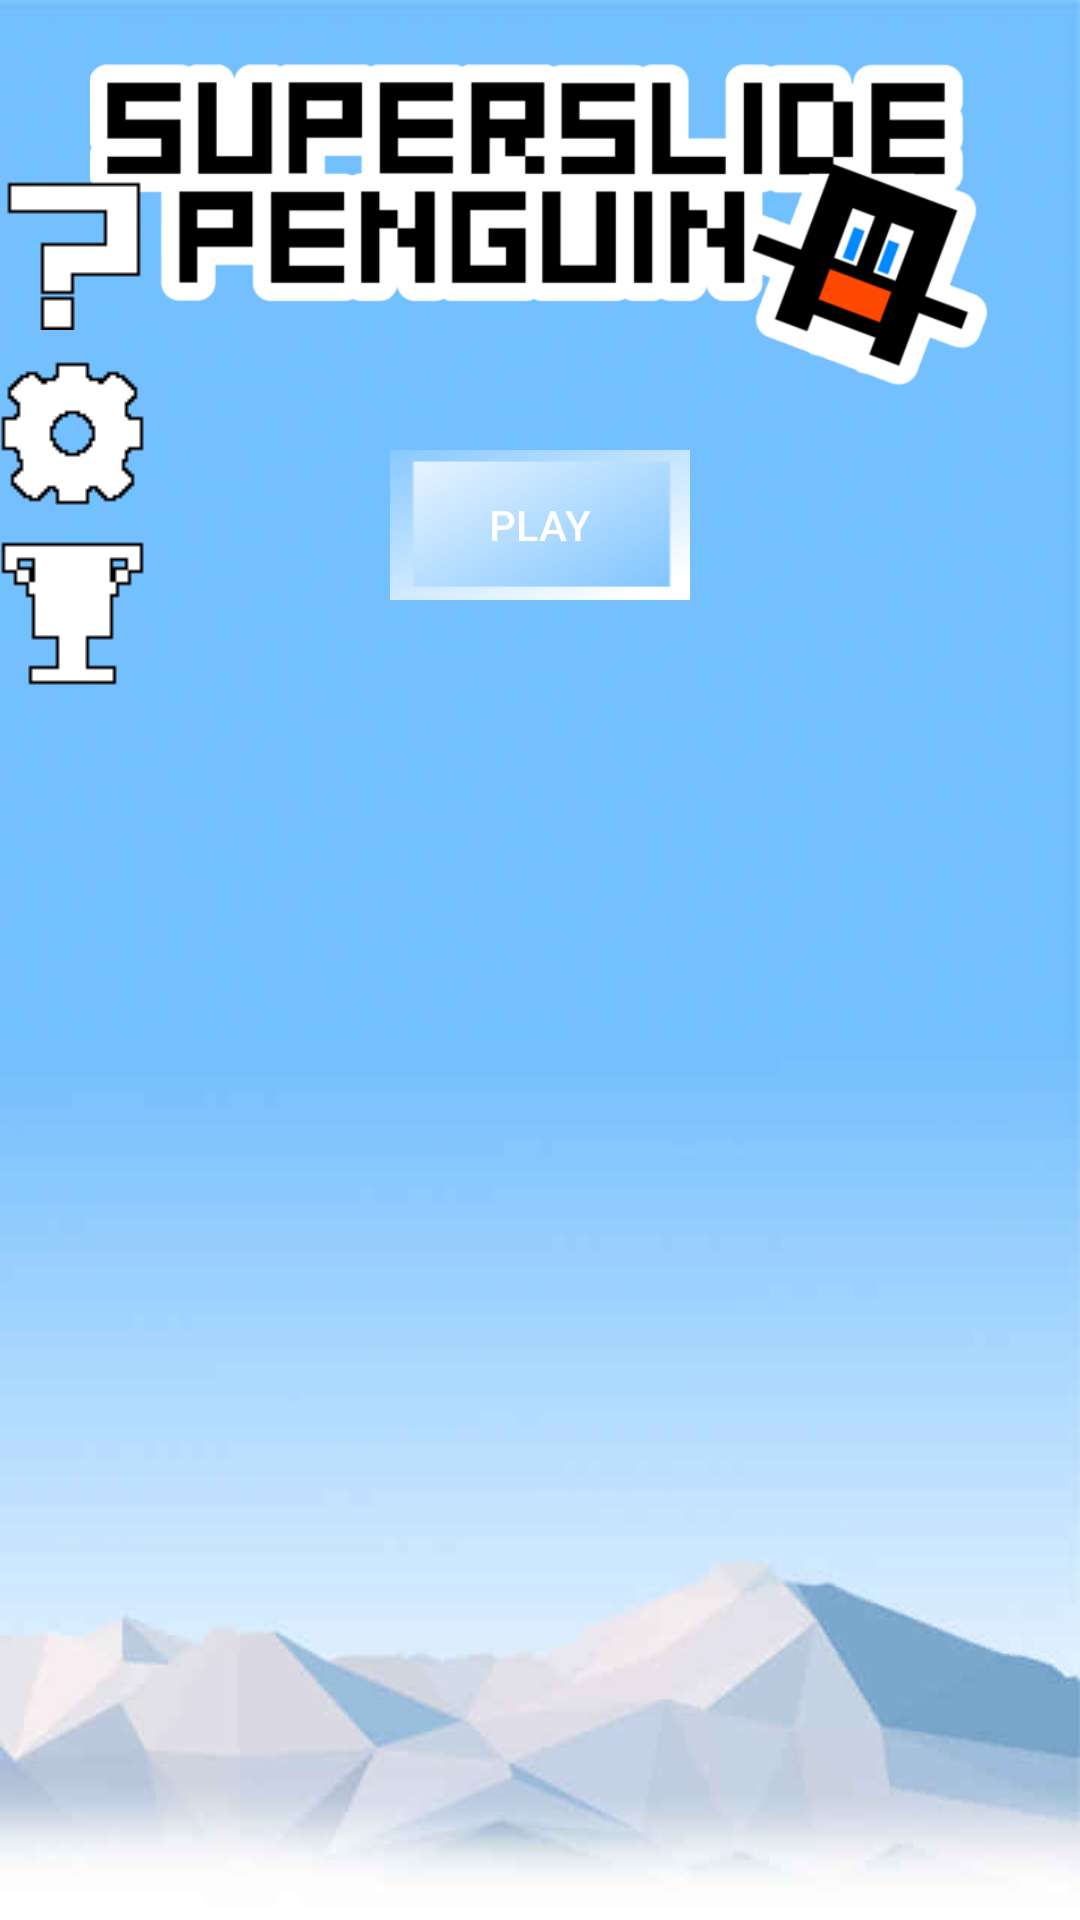

Point at icon controls on the screen. Image size 1080×1920, points as point (x, y).
help: point (78, 255)
leaderboards: point (72, 613)
options: point (72, 433)
